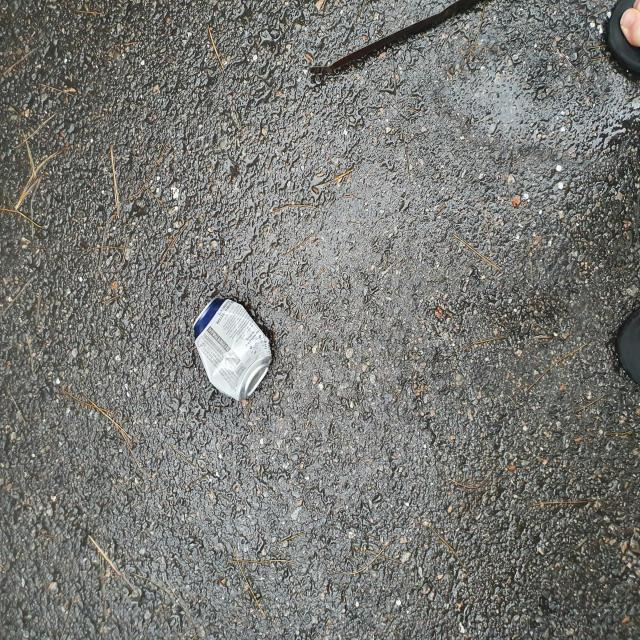can: (193, 296, 271, 401)
